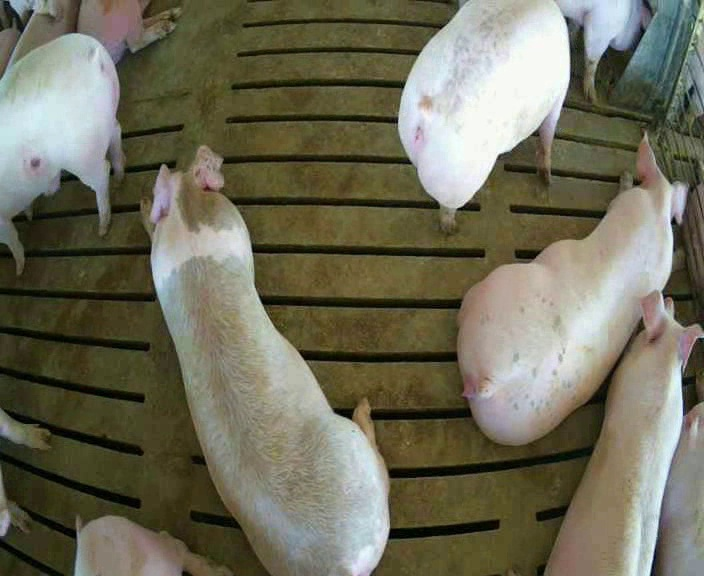pig: (140, 146, 388, 573), (458, 137, 686, 442), (547, 291, 702, 574), (398, 2, 569, 232), (0, 35, 123, 274), (557, 0, 649, 102), (74, 516, 231, 575), (655, 402, 703, 574), (77, 1, 180, 62)
